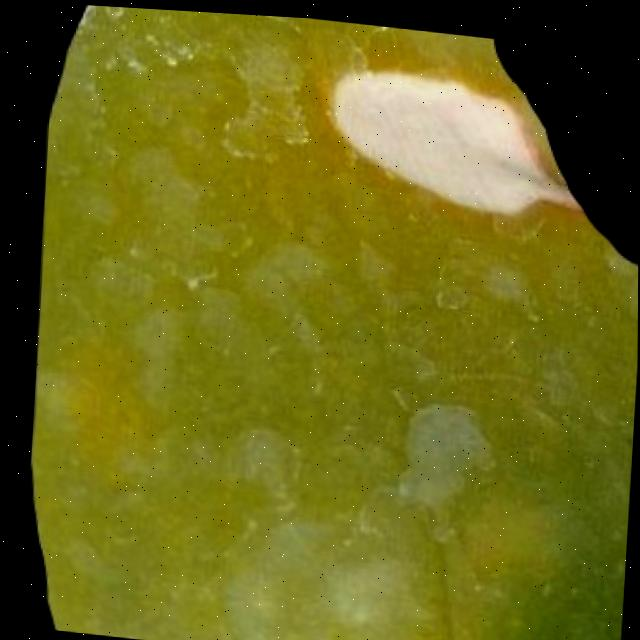mite: (474, 31, 640, 259), (456, 476, 582, 592), (215, 24, 315, 163), (219, 416, 309, 515)
spots: (16, 2, 640, 640)
